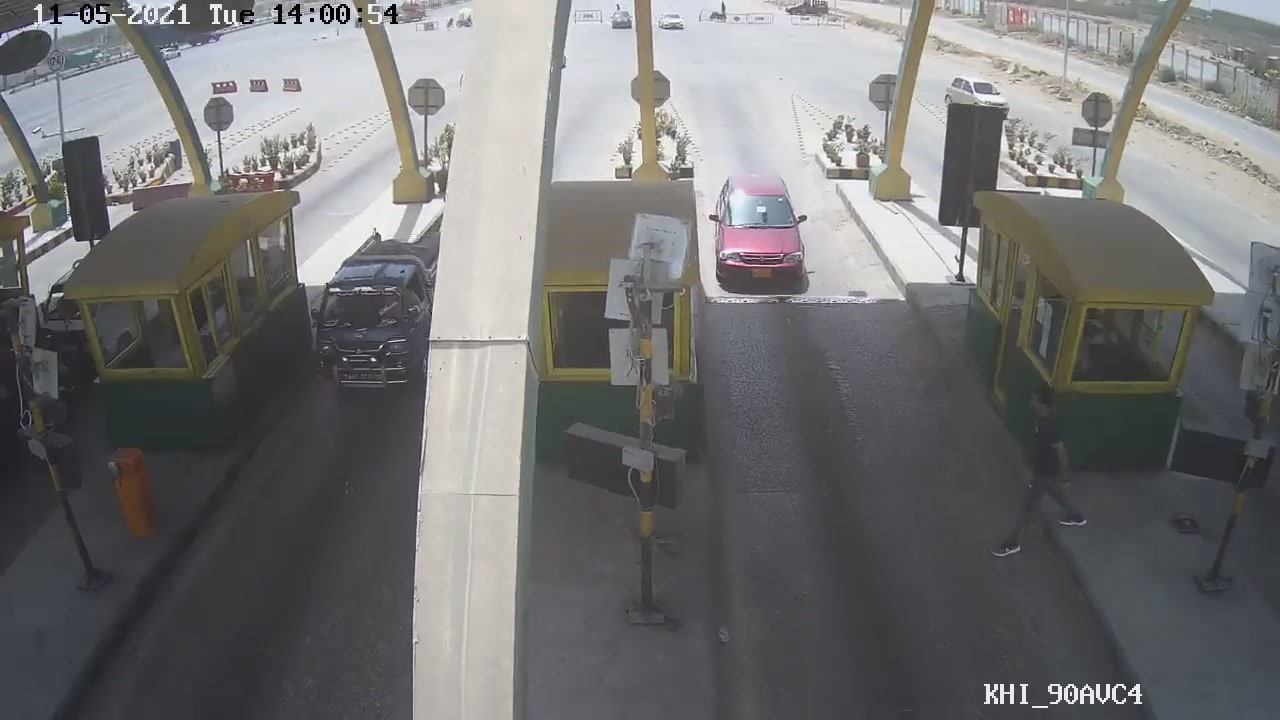F1: (711, 160, 812, 307)
